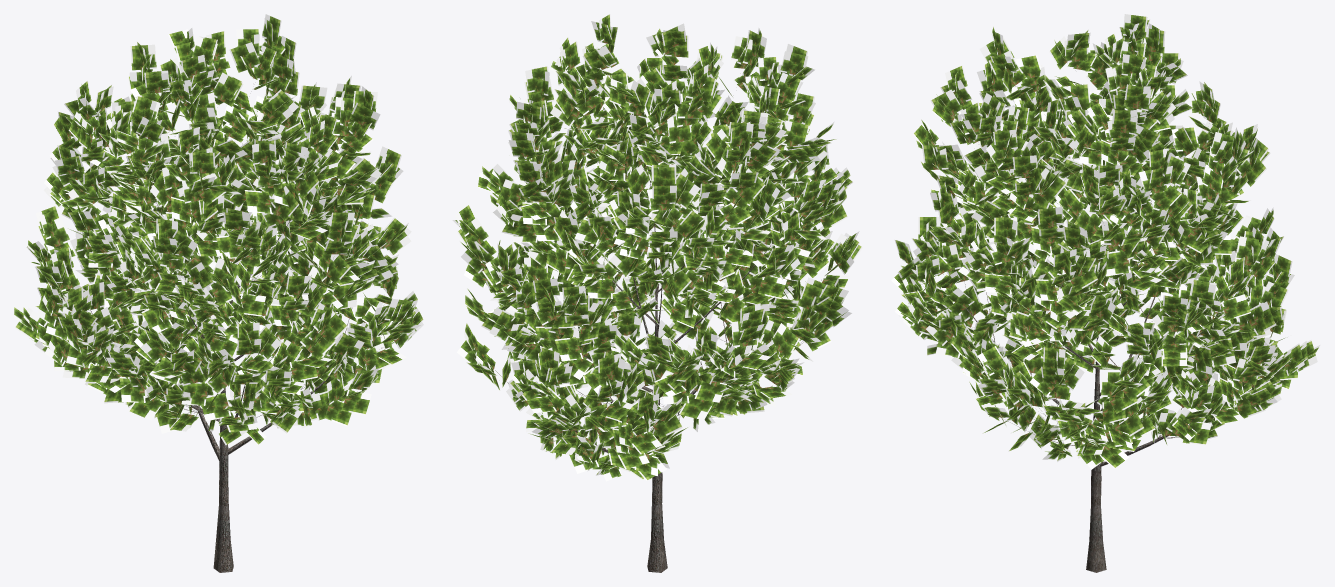
The model's file is maple.glb.
3 views of the same model, side by side, from view 1: azimuth 30°, elevation 25°; view 2: azimuth 150°, elevation 25°; view 3: azimuth 270°, elevation 25° (orthographic).
Visible parts, largest first — view 1: Material2 (×2); view 2: Material2 (×2); view 3: Material2 (×2).
Boxes of the visible parts, left/top/right/bottom form: Material2 (×2): left=14, top=14, right=423, bottom=572; Material2 (×2): left=452, top=14, right=862, bottom=572; Material2 (×2): left=891, top=14, right=1320, bottom=572.
Size of the model in its own units: 239 by 325 by 242.
Materials: 2 (2 with a texture image).
